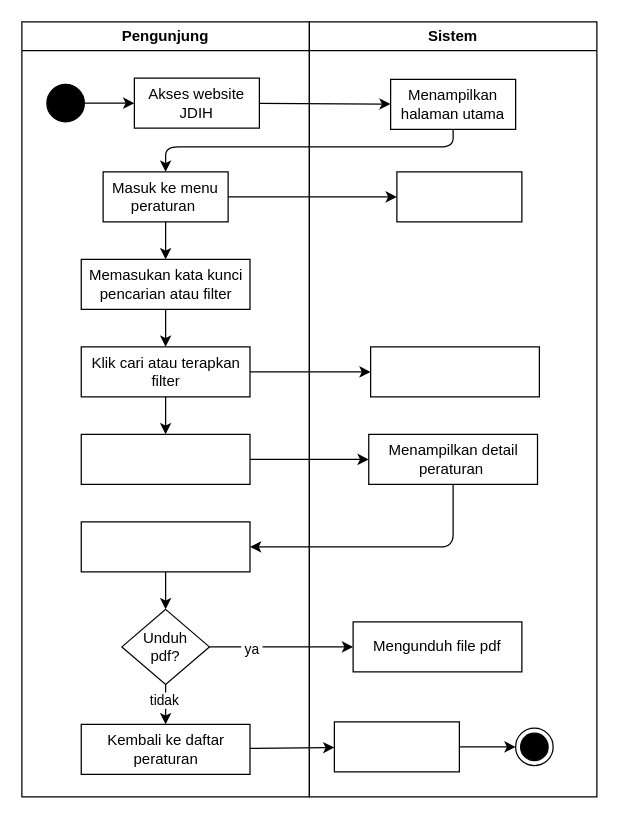
This 619x819 diagram has some shape labels left out. Here are the shapes that lost their labels. From the top down, the centre of each, then its label:
At pixel 459 196: "Menampilkan daftar peraturan".
At pixel 454 371: "Menampilkan hasil pencarian atau filter".
At pixel 165 458: "Pilih peraturan yang diinginkan".
At pixel 165 546: "Lihat informasi peraturan".
At pixel 396 746: "Selesai melihat peraturan".
